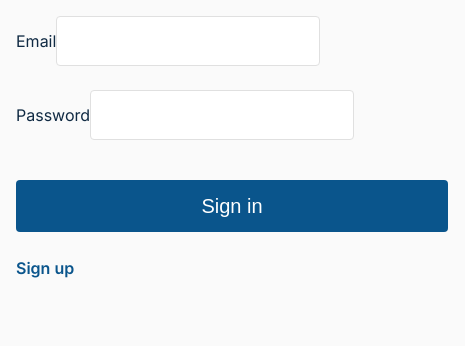
<SignInForm /> › displays validation error if email is not entered
The width and height of the screenshot is (465, 346).
Submit form without entering email
Click the button "Sign in": (232, 206) [16, 180, 448, 232]
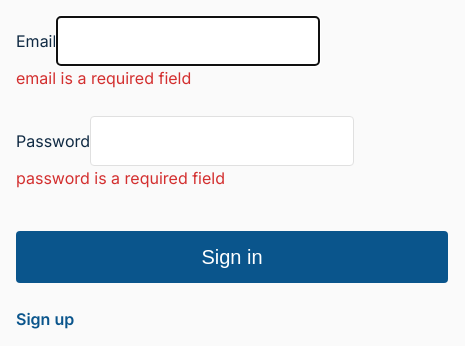
Check: the text "email is a required field" is shown, box [16, 68, 191, 88]
